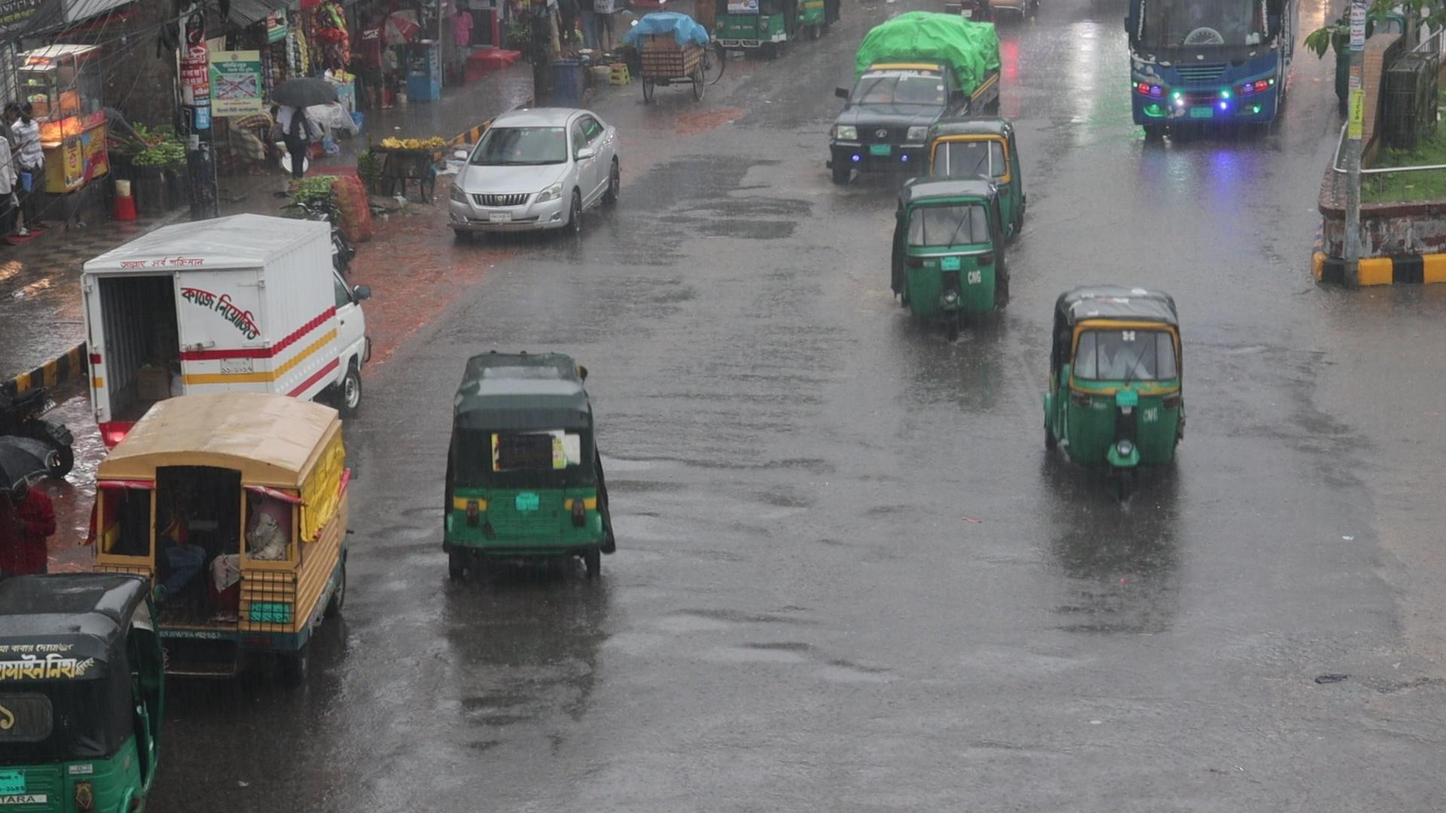Truck: (830, 10, 927, 181)
